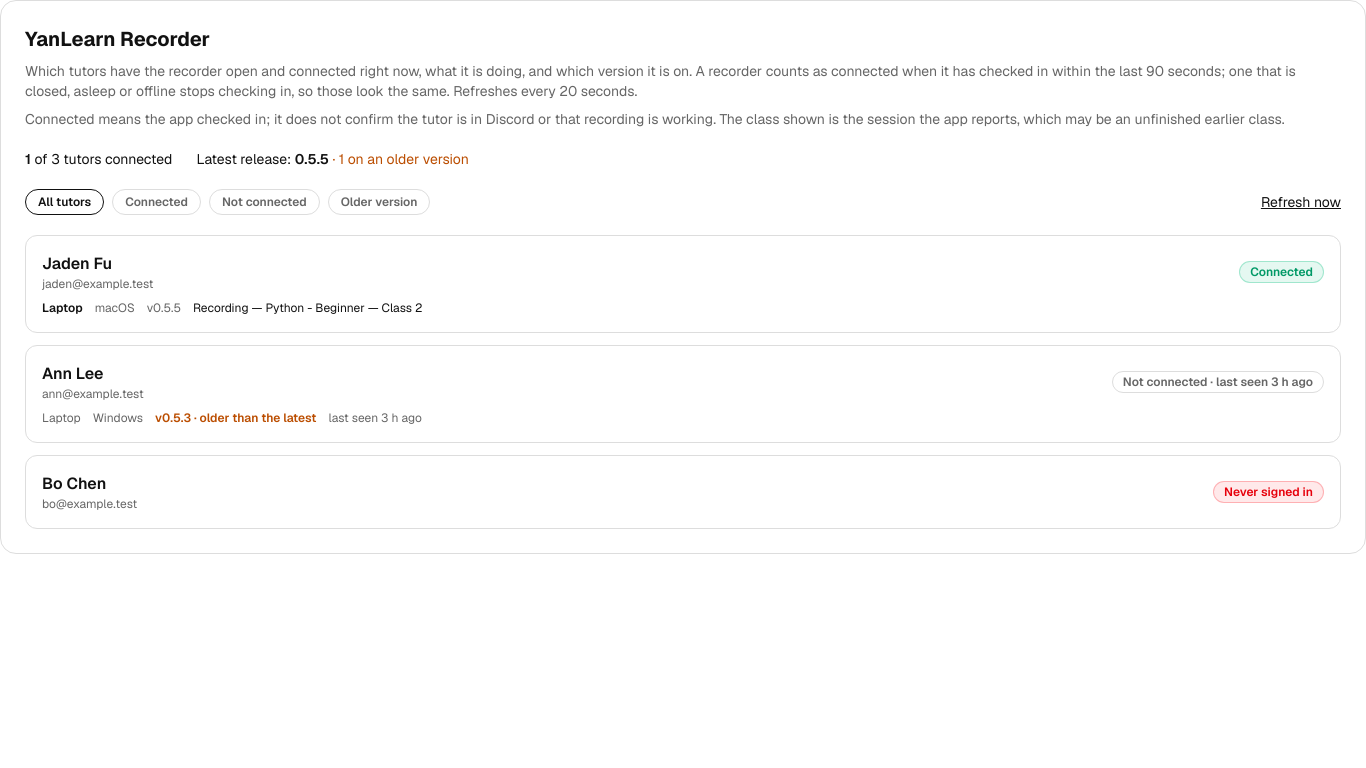
Scenario: AdminRecorderStatus › filters to tutors on an older version
The width and height of the screenshot is (1366, 768).
Click the button "Older version" at {"x": 379, "y": 202}, box [328, 189, 430, 215]
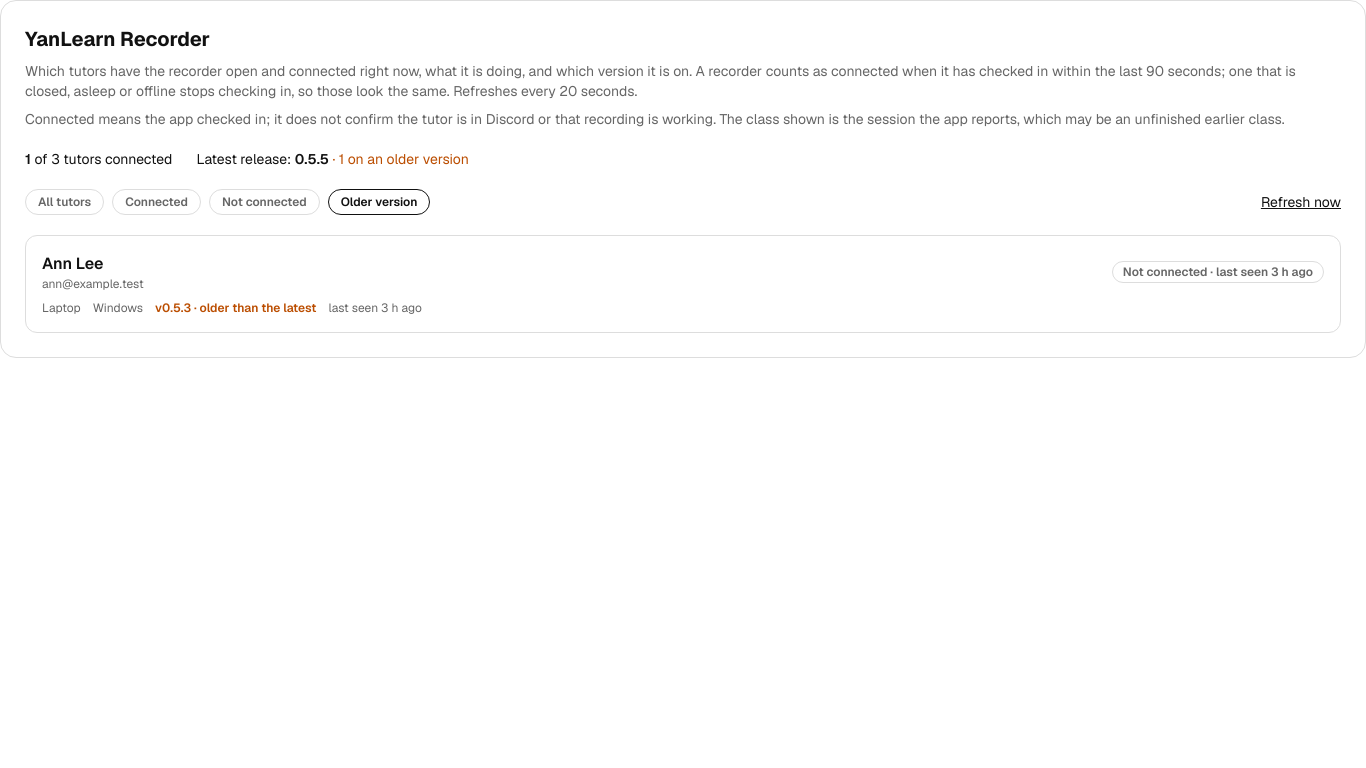
Expected: the text "Ann Lee" is shown, [42, 253, 103, 274]
Now the text "Jaden Fu" is gone
Now the text "Bo Chen" is gone
